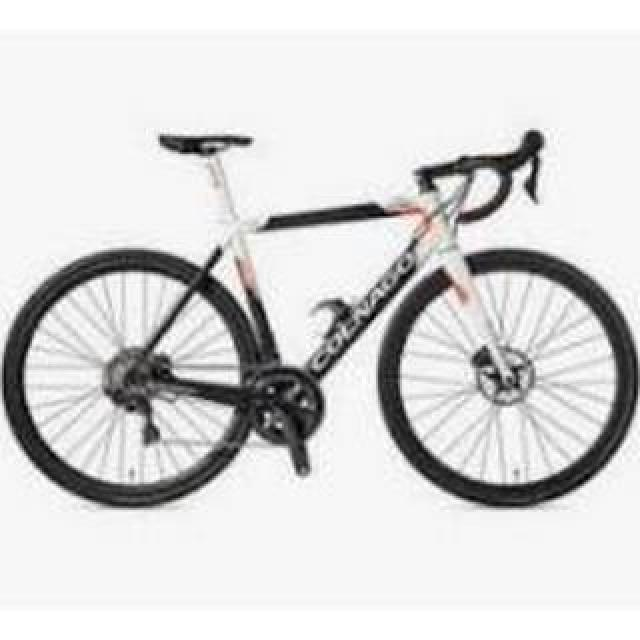Person: (6, 115, 640, 505)
